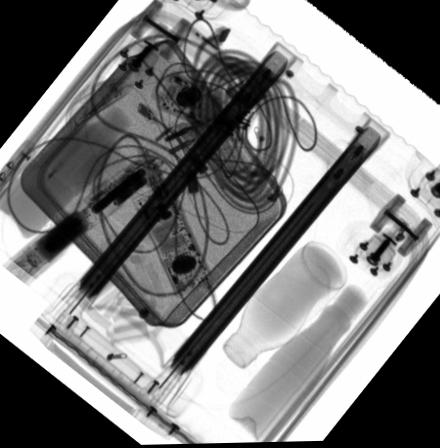Baton: (1, 157, 155, 285)
